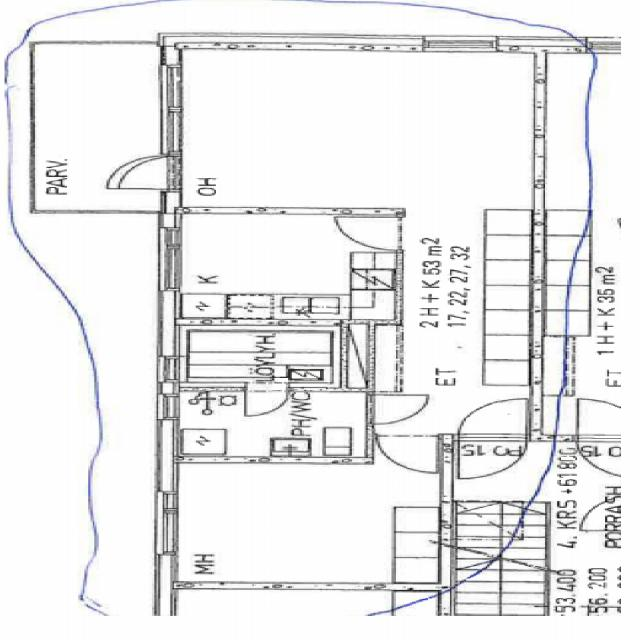door: (458, 396, 526, 442), (458, 434, 526, 479), (96, 154, 179, 188), (377, 434, 436, 472), (338, 217, 403, 249), (366, 394, 428, 424), (245, 382, 289, 416)
